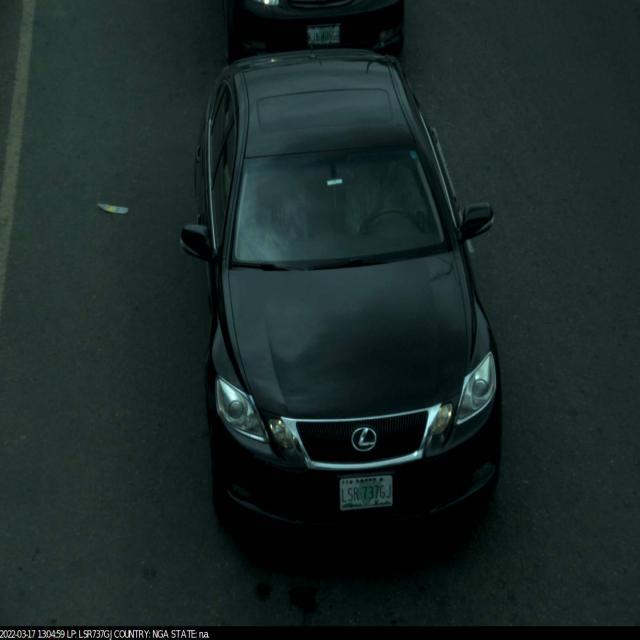windshield: (225, 131, 458, 280), (432, 332, 433, 333)
